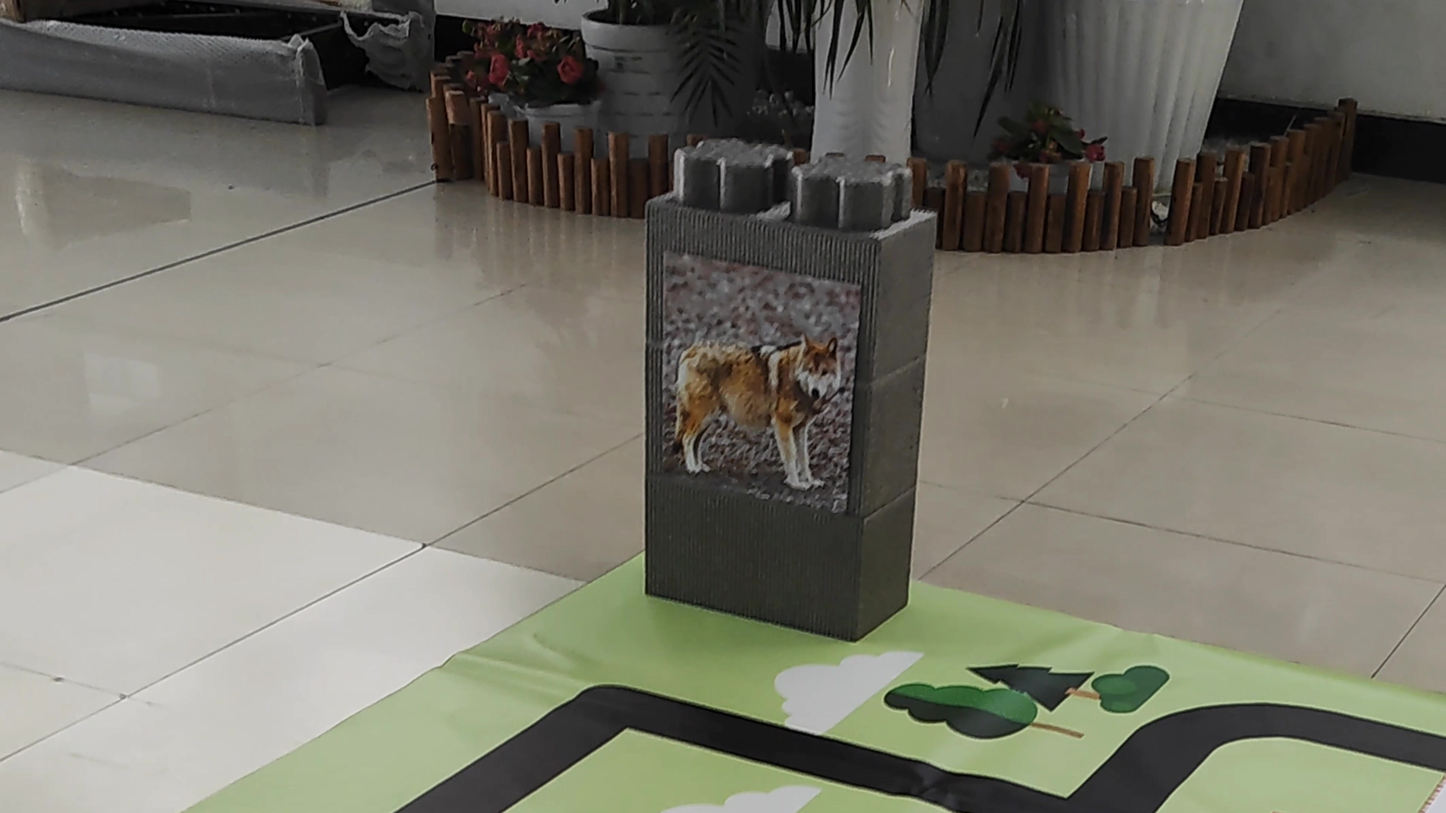wolf: (668, 303, 850, 490)
